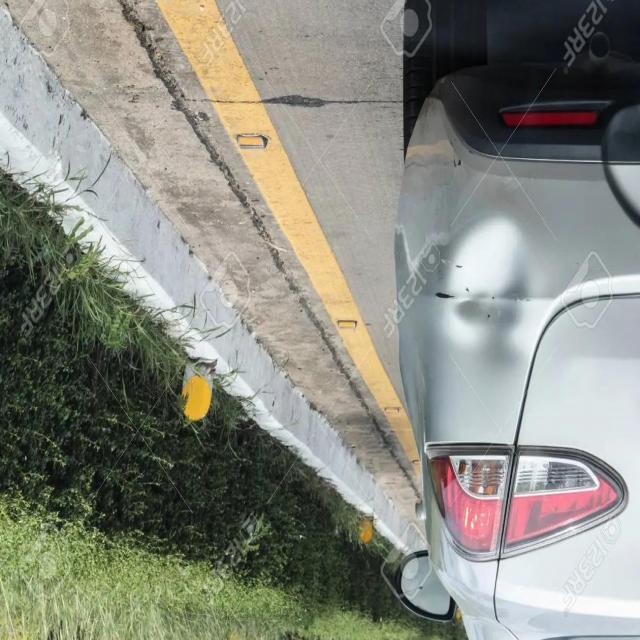dent: (430, 209, 534, 387)
